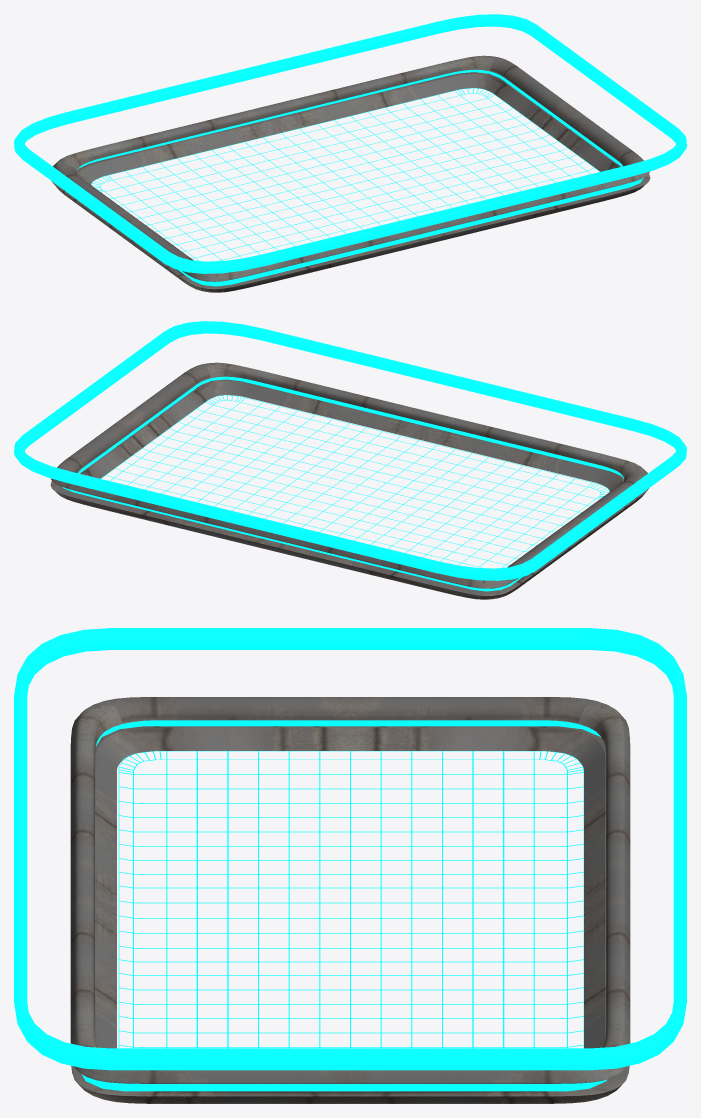
File: Table Sci Fi.fbx
3 views of the same model, one above another, from view 1: azimuth 30°, elevation 25°; view 2: azimuth 150°, elevation 25°; view 3: azimuth 270°, elevation 25° (orthographic). The views are drawn at different scales.
Visible parts, largest first — view 1: Frame, Handle Emit, Wire Plane Emit; view 2: Frame, Handle Emit, Wire Plane Emit; view 3: Frame, Handle Emit, Wire Plane Emit.
Boxes of the visible parts, x1,y1,x2,y2 form: Frame: (51,55,650,292); Handle Emit: (14,14,686,273); Wire Plane Emit: (77,69,643,286); Frame: (50,362,649,599); Handle Emit: (14,321,686,580); Wire Plane Emit: (62,376,623,591); Frame: (70,697,630,1103); Handle Emit: (14,628,686,1070); Wire Plane Emit: (81,720,607,1091).
Size of the model in its own units: 468 by 40.68 by 310.
3 materials, 1 textured.
